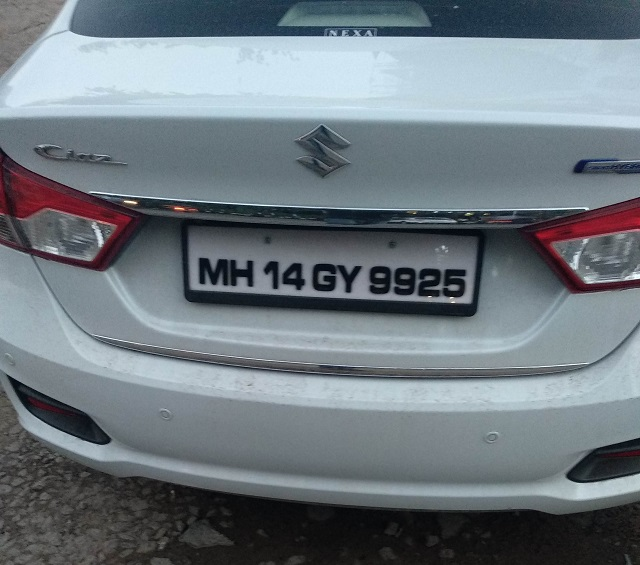licenseplate: (177, 212, 487, 318)
